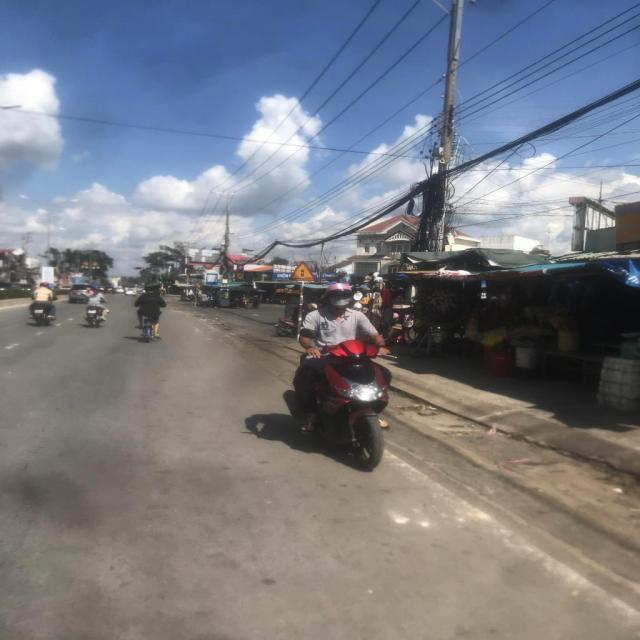209-giao-nhau-co-tin-hieu-den: (289, 262, 315, 282)
